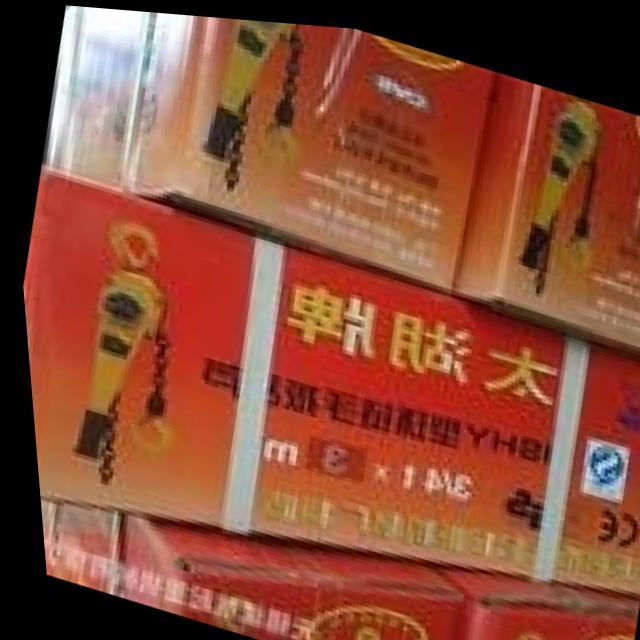box: (18, 163, 640, 584), (119, 10, 494, 285), (446, 63, 640, 350), (109, 512, 454, 640), (418, 557, 631, 640), (60, 6, 152, 187), (42, 4, 87, 169), (37, 504, 115, 596)
